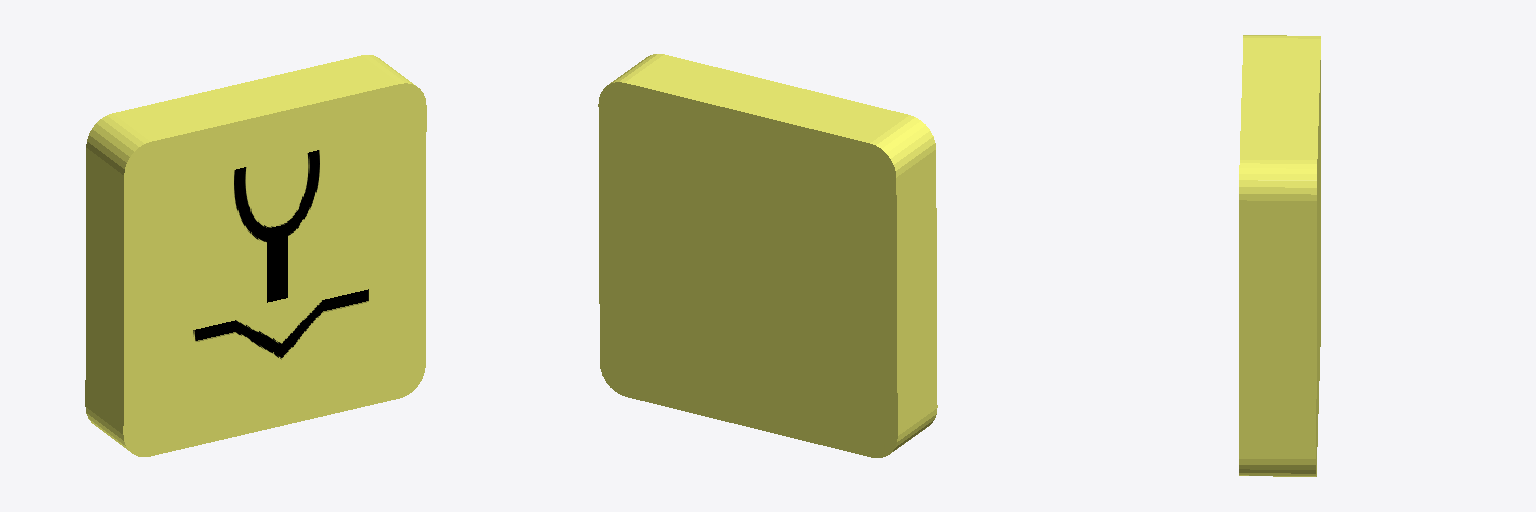
The picture shows the model from 3 angles: view 1: azimuth 30°, elevation 25°; view 2: azimuth 150°, elevation 25°; view 3: azimuth 270°, elevation 25°; orthographic projection.
Bounding box in the file's own units: 5.39 × 5.38 × 1.28.
Materials: 1 (1 with a texture image).